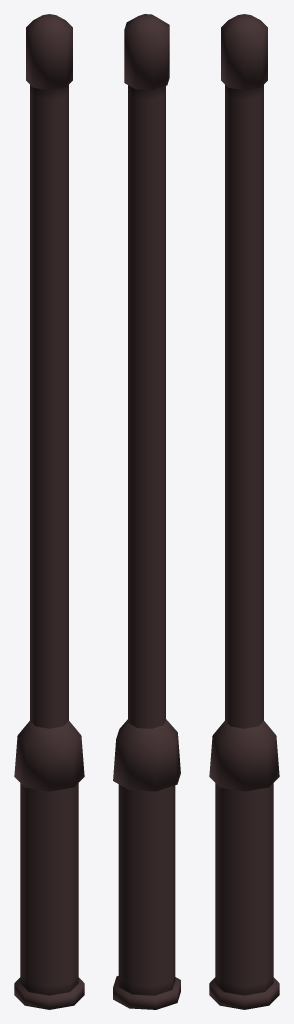
The model's file is SW_PROP_PlatformLamp_Pole.fbx.
3 renders of one model, left to right at view 1: azimuth 90°, elevation 25°; view 2: azimuth 150°, elevation 25°; view 3: azimuth 270°, elevation 25°, orthographic.
Parts seen in each view (by area): view 1: SW_PROP_PlatformLamp_Pole; view 2: SW_PROP_PlatformLamp_Pole; view 3: SW_PROP_PlatformLamp_Pole.
Part boxes in pixels (x1,y1,x2,y2): SW_PROP_PlatformLamp_Pole: [14, 14, 84, 1009]; SW_PROP_PlatformLamp_Pole: [113, 14, 180, 1009]; SW_PROP_PlatformLamp_Pole: [209, 14, 279, 1009].
Size of the model in its own units: 0.27 by 4.14 by 0.27.
